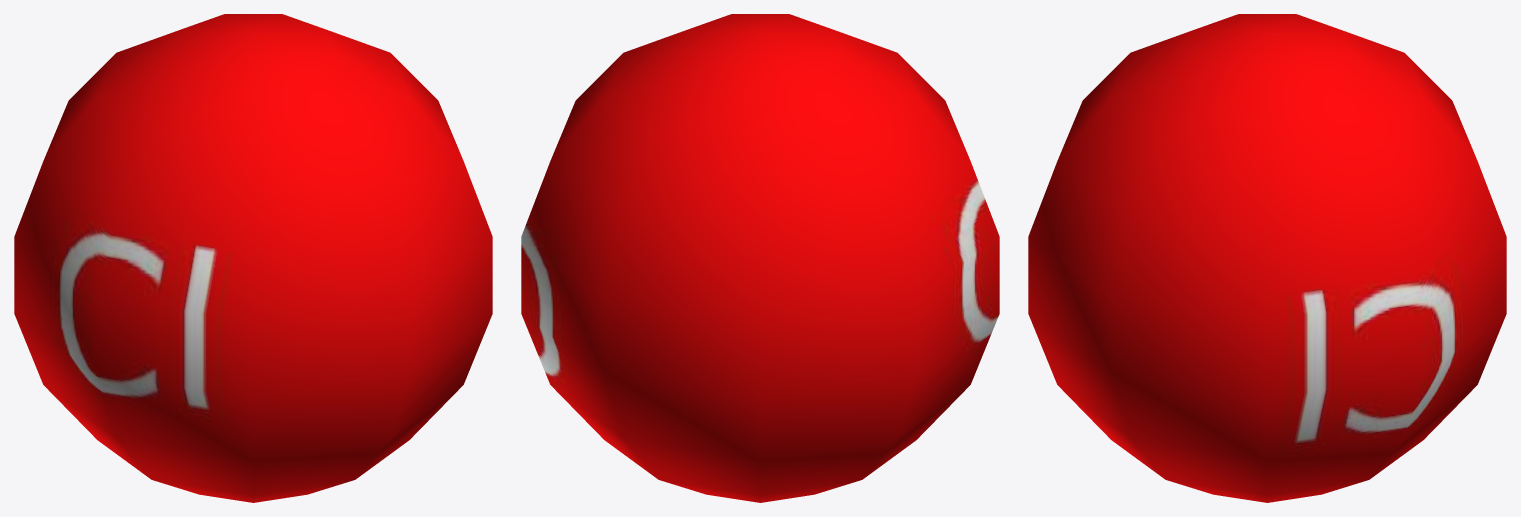
3 renders of one model, left to right at view 1: azimuth 30°, elevation 25°; view 2: azimuth 150°, elevation 25°; view 3: azimuth 270°, elevation 25°, orthographic.
Parts seen in each view (by area): view 1: CL; view 2: CL; view 3: CL.
Part boxes in pixels (x1,y1,x2,y2): CL: [14, 14, 492, 502]; CL: [521, 14, 999, 502]; CL: [1028, 14, 1506, 502].
Size of the model in its own units: 1.91 by 2 by 1.94.
1 material, 1 textured.
